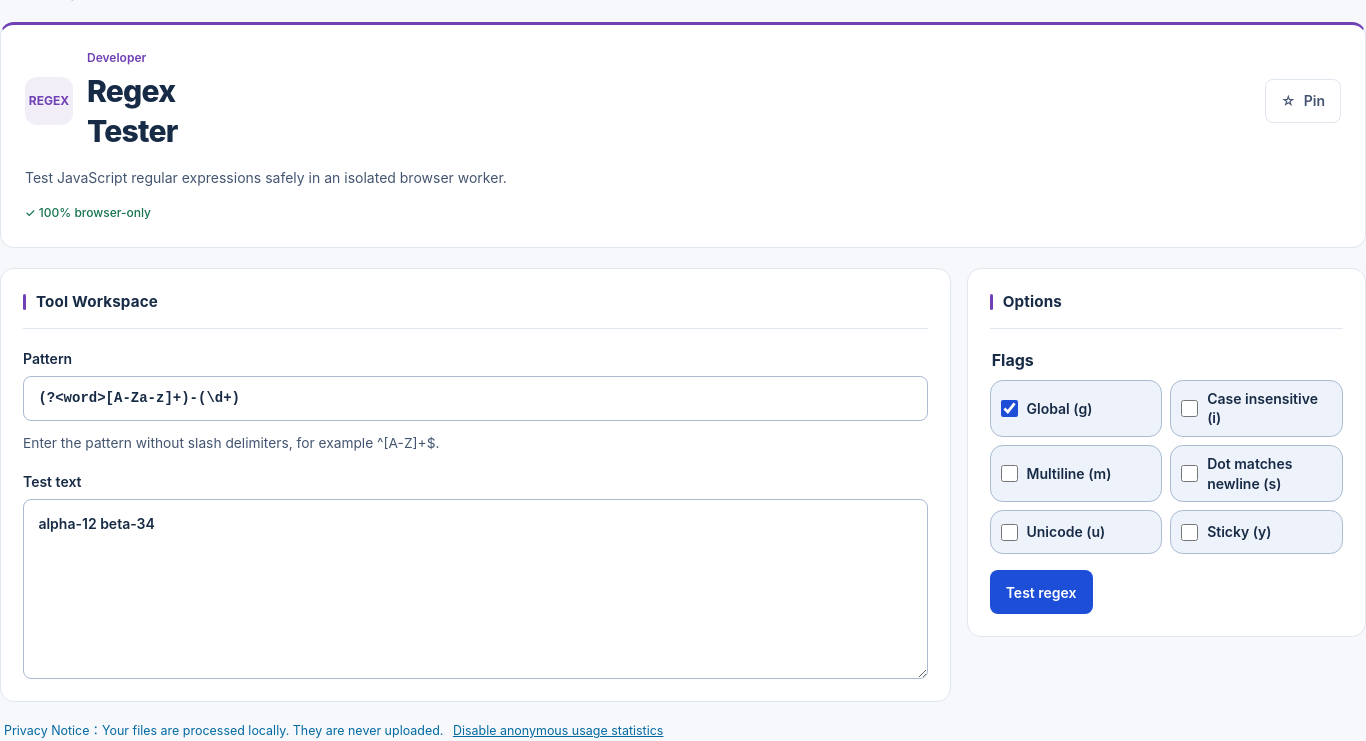
RegexTesterPage › submits editable inputs and selected flags, then presents aligned match details
Replace the text in the field labelled "Pattern" with "(?<word>[a-z]+)-(\\d+)" at (475, 399), box [23,376,928,421]
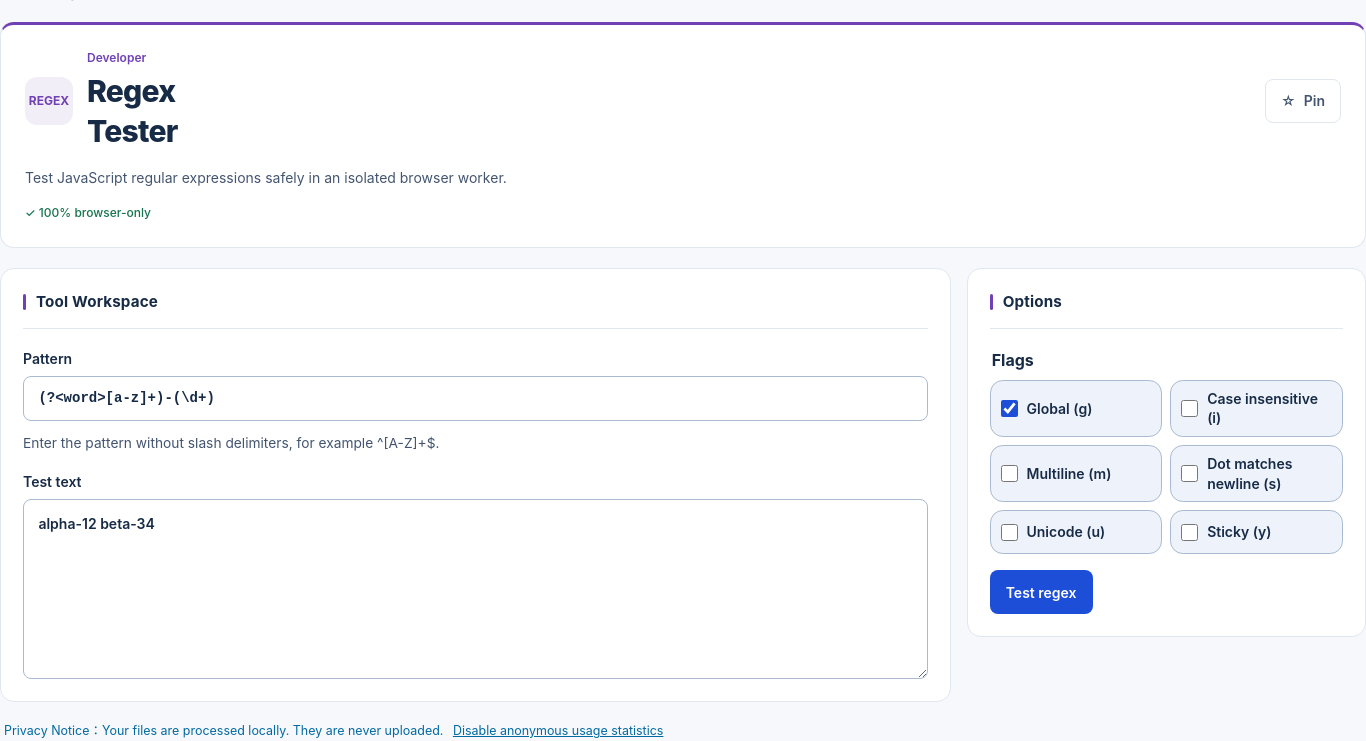
Replace the text in the text box labelled "Test text" with "alpha-12" at (475, 589), box [23,499,928,679]
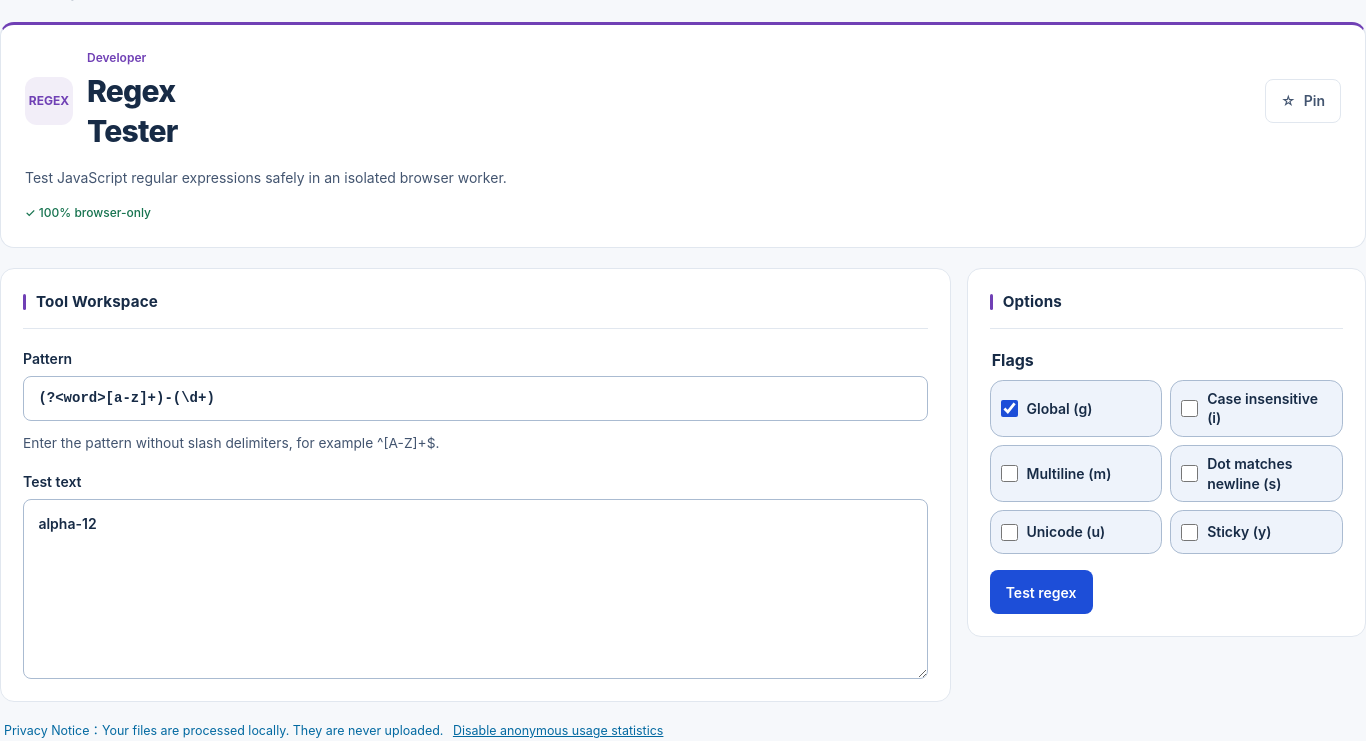
Click the checkbox labelled "Case insensitive (i)" at (1190, 408), box [1181,400,1198,417]
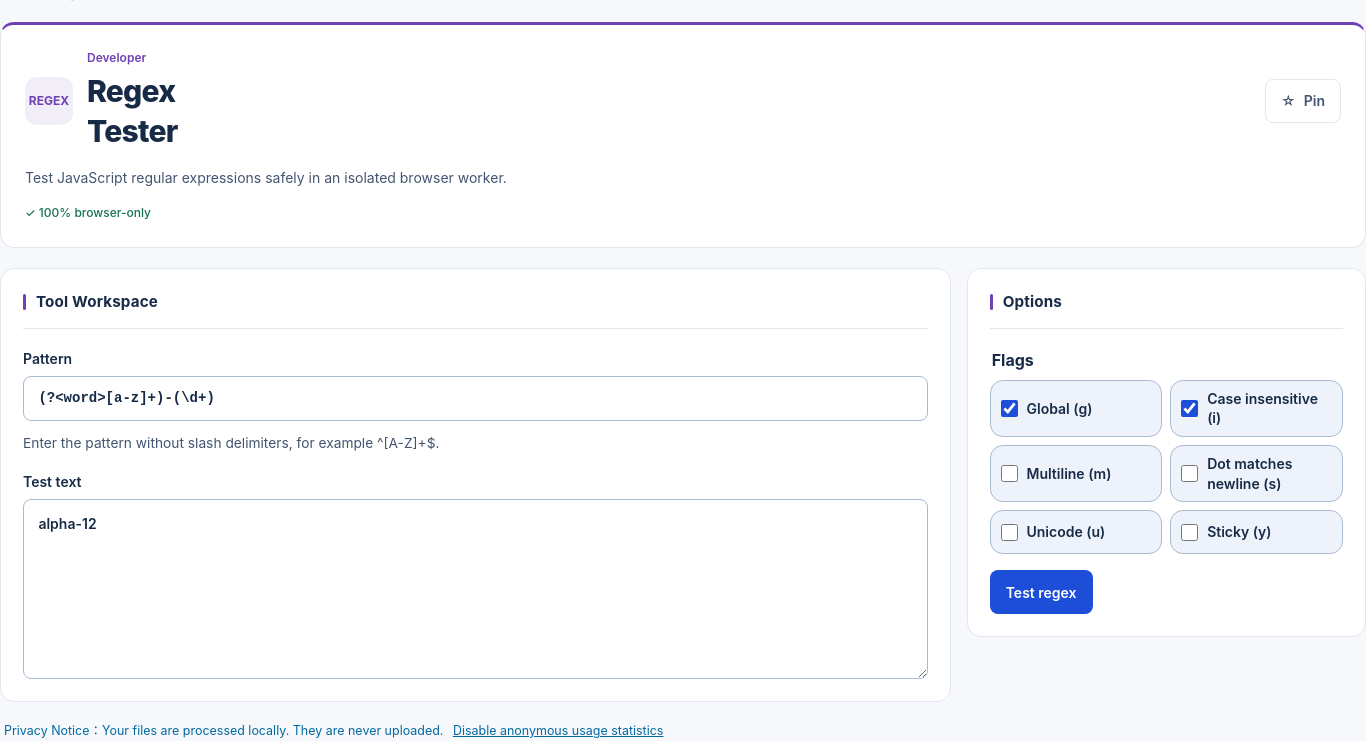
Click the button "Test regex" at (1041, 592), box [990,570,1092,614]
(page scrolled)
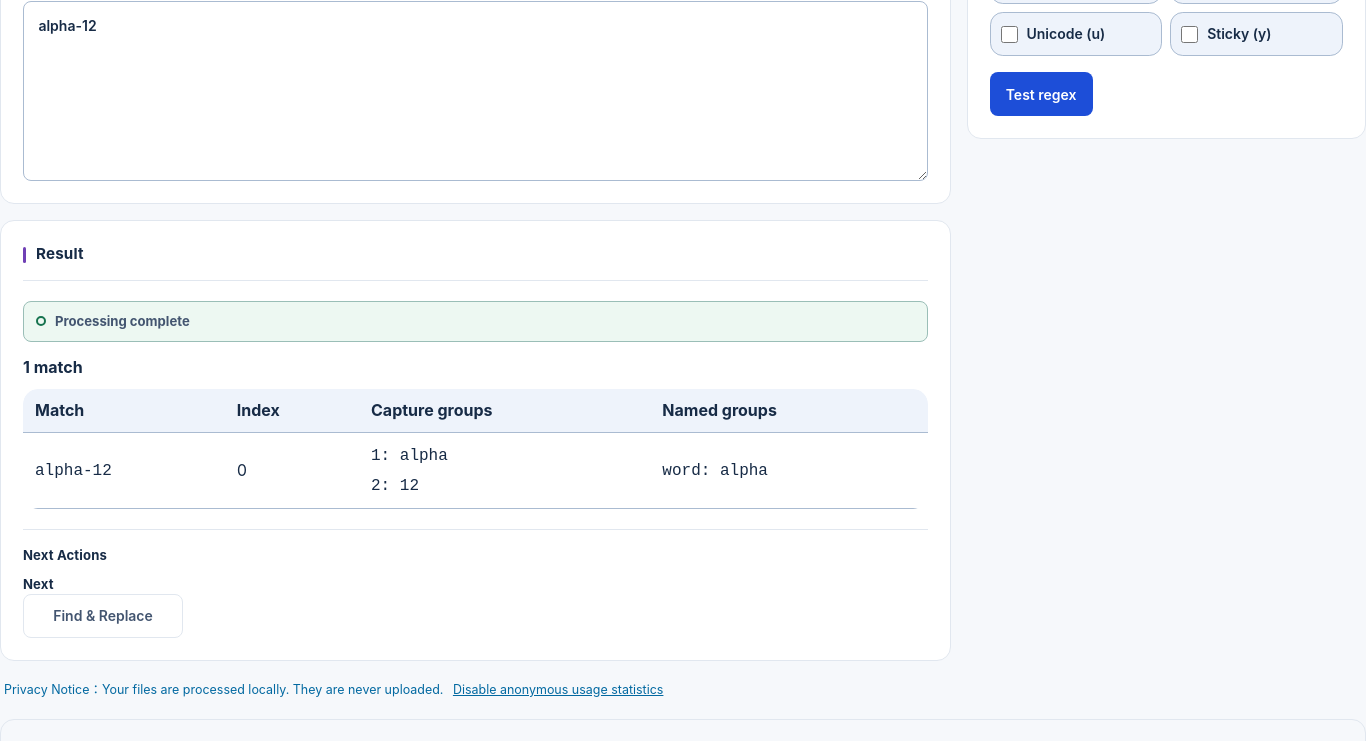
Expected: the table named "Regex matches" shows "alpha-12", [35,462,112,480]
Expected: the table named "Regex matches" shows "0", [237,460,247,480]
Expected: the table named "Regex matches" shows "1: alpha", [23,389,928,509]
